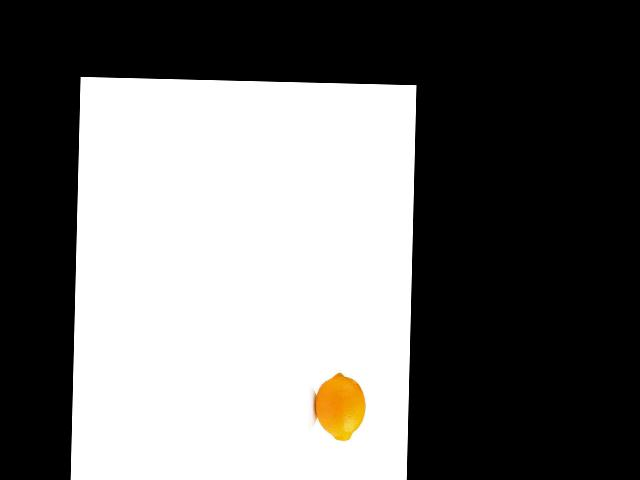lemon: (310, 371, 367, 444)
